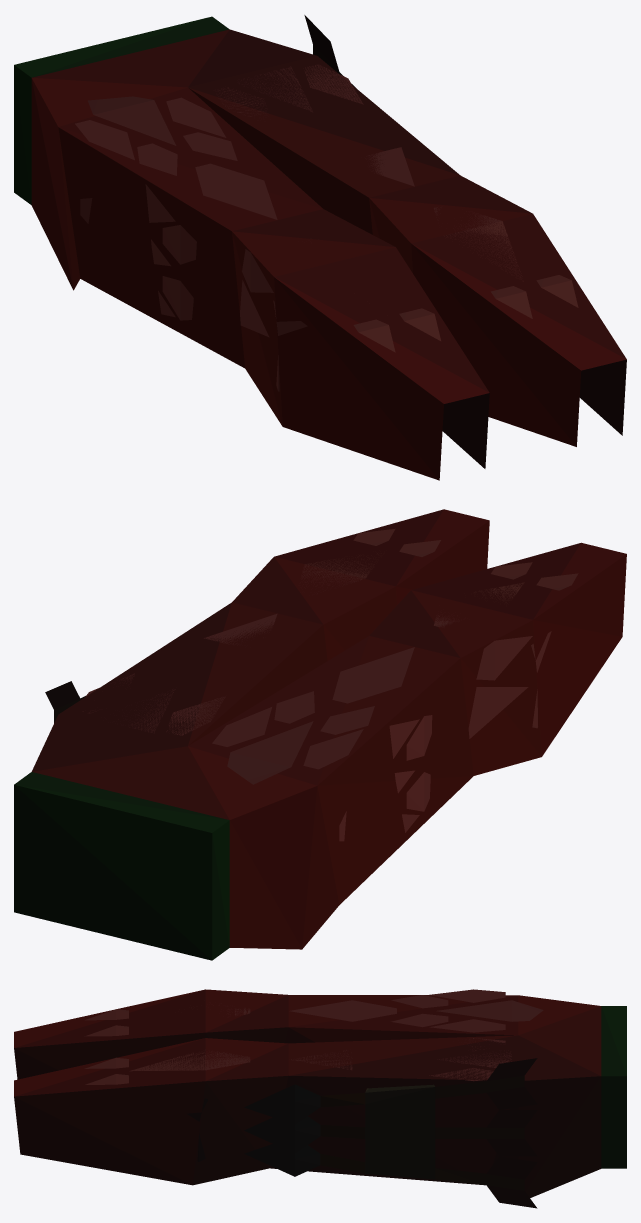
File: red-dhide-chaps.obj
The picture shows the model from 3 angles, top to bottom: view 1: azimuth 30°, elevation 25°; view 2: azimuth 150°, elevation 25°; view 3: azimuth 270°, elevation 25°; orthographic projection. The views are drawn at different scales.
Parts seen in each view (by area): view 1: Item Red d'hide chaps 2026-09-24_17-11-48; view 2: Item Red d'hide chaps 2026-09-24_17-11-48; view 3: Item Red d'hide chaps 2026-09-24_17-11-48.
Boxes of the visible parts, <box> form: Item Red d'hide chaps 2026-09-24_17-11-48: <box>14,15,626,480</box>; Item Red d'hide chaps 2026-09-24_17-11-48: <box>14,509,626,960</box>; Item Red d'hide chaps 2026-09-24_17-11-48: <box>14,989,626,1208</box>.
Size of the model in its own units: 34 by 26 by 96.
